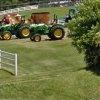Tractor: (5, 2, 63, 46)
